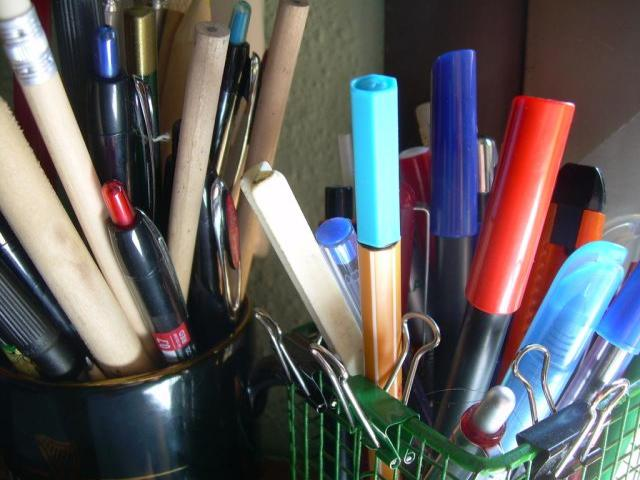PEN: (339, 73, 422, 394), (490, 85, 573, 386), (82, 180, 206, 373), (430, 43, 484, 369), (85, 6, 168, 178)
